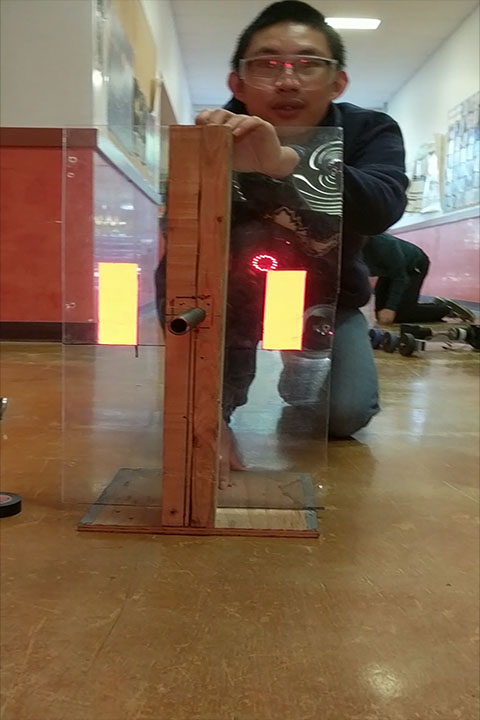gear: (97, 262, 137, 345), (263, 271, 304, 350)
